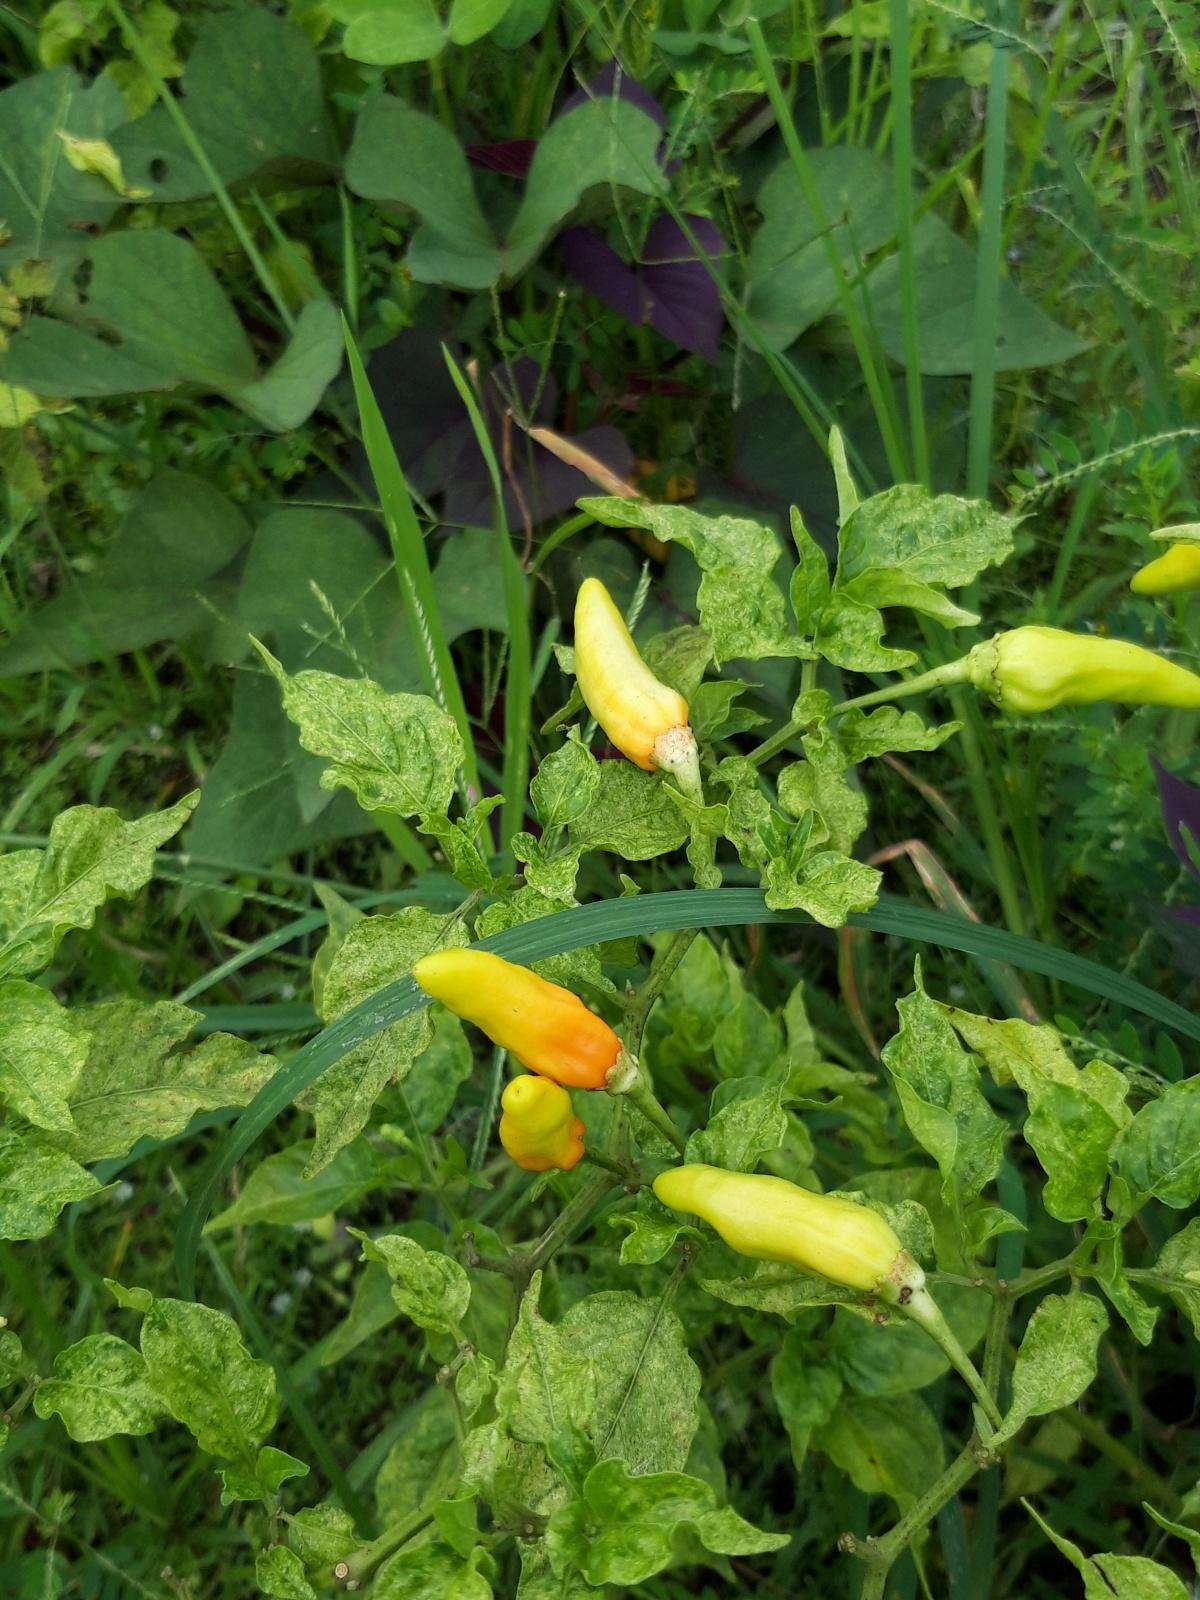cabai_normal: (652, 1163, 905, 1290), (411, 945, 616, 1090), (574, 577, 689, 771), (984, 624, 1200, 716), (497, 1075, 587, 1172)
